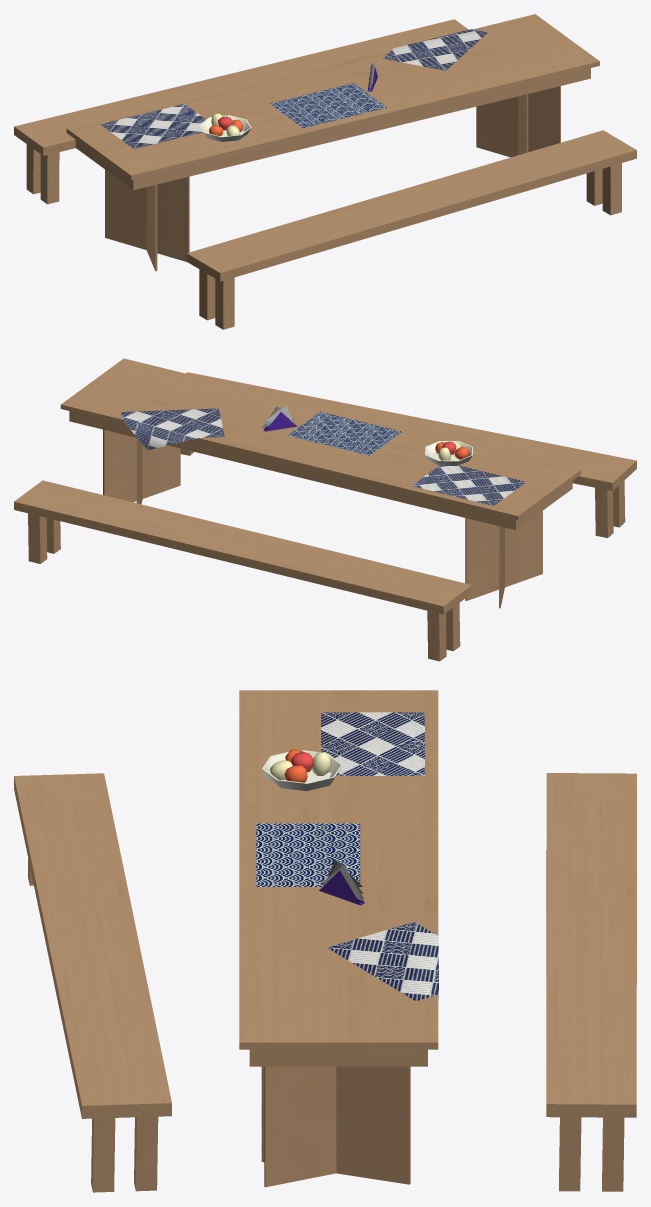
Rendered from M_canzhuo03.FBX.
3 renders of one model, top to bottom at view 1: azimuth 30°, elevation 25°; view 2: azimuth 150°, elevation 25°; view 3: azimuth 270°, elevation 25°, orthographic. The views are drawn at different scales.
Visible parts, largest first — view 1: M_canzhuo03_01, M_canzhuo03_02, M_canzhuo03_03, M_canzhuo03_04; view 2: M_canzhuo03_01, M_canzhuo03_02, M_canzhuo03_03, M_canzhuo03_04; view 3: M_canzhuo03_01, M_canzhuo03_02, M_canzhuo03_03, M_canzhuo03_04.
Part boxes in pixels (box(x1,y1,x2,y2)): M_canzhuo03_01: box(14, 14, 636, 329); M_canzhuo03_02: box(100, 29, 487, 148); M_canzhuo03_03: box(209, 61, 377, 135); M_canzhuo03_04: box(199, 115, 251, 141); M_canzhuo03_01: box(14, 358, 636, 661); M_canzhuo03_02: box(121, 408, 526, 505); M_canzhuo03_03: box(262, 406, 469, 460); M_canzhuo03_04: box(425, 441, 472, 465); M_canzhuo03_01: box(14, 690, 636, 1192); M_canzhuo03_02: box(256, 712, 438, 1001); M_canzhuo03_03: box(270, 749, 364, 905); M_canzhuo03_04: box(262, 750, 342, 791).
Bounding box in the file's own units: 4 × 1.08 × 2.99.
